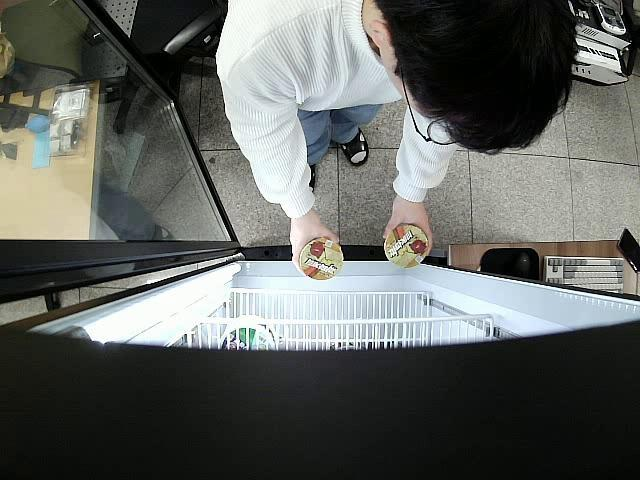04_chapagetti_S: (384, 224, 432, 270), (298, 238, 344, 282)
